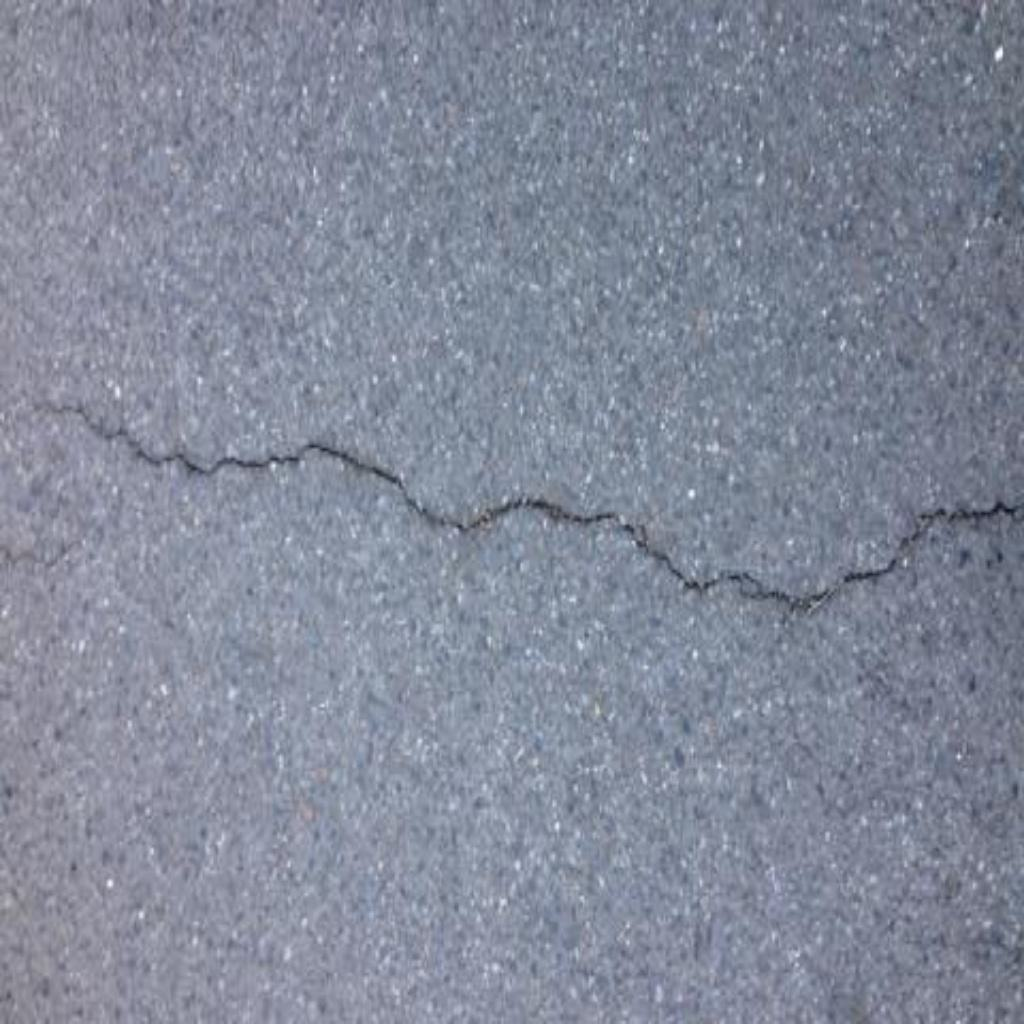Crack: (36, 403, 1024, 610)
